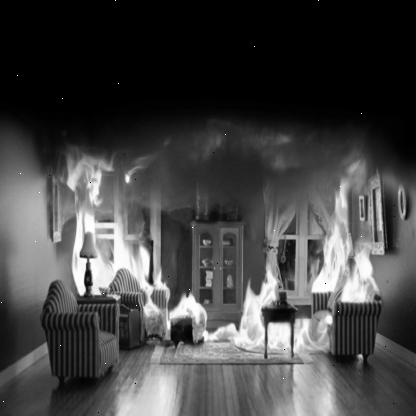fire: (69, 192, 206, 340), (310, 168, 382, 311), (231, 267, 328, 357)
smoke: (0, 0, 416, 180)
